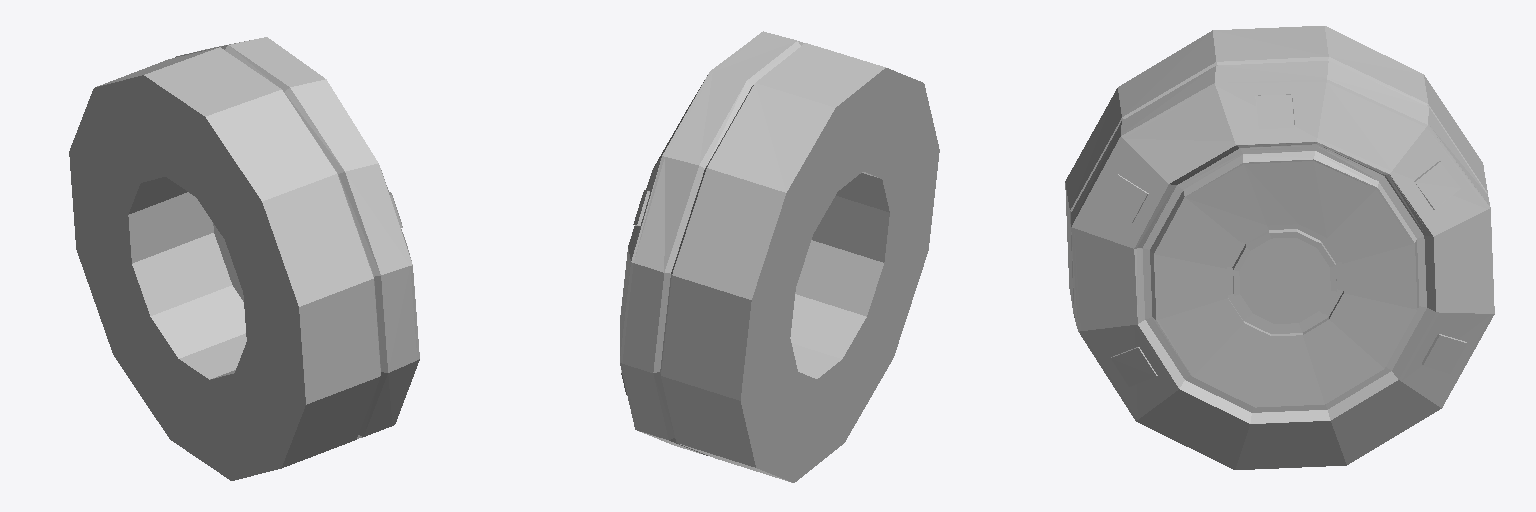
Rendered from lwheel.obj.
3 renders of one model, left to right at view 1: azimuth 30°, elevation 25°; view 2: azimuth 150°, elevation 25°; view 3: azimuth 270°, elevation 25°, orthographic.
Parts seen in each view (by area): view 1: IronMan:null_87 polySurface31; view 2: IronMan:null_87 polySurface31; view 3: IronMan:null_87 polySurface31, IronMan:null_87 polySurface30, IronMan:null_87 polySurface29, IronMan:null_87 polySurface28, IronMan:null_87 polySurface27, polySurface25 IronMan:null_87.
Boxes of the visible parts, <box> form: IronMan:null_87 polySurface31: <box>69,37,419,480</box>; IronMan:null_87 polySurface31: <box>620,31,939,482</box>; IronMan:null_87 polySurface31: <box>1065,26,1494,469</box>; IronMan:null_87 polySurface30: <box>1255,94,1294,129</box>; IronMan:null_87 polySurface29: <box>1102,174,1148,222</box>; IronMan:null_87 polySurface28: <box>1414,161,1460,209</box>; IronMan:null_87 polySurface27: <box>1422,334,1466,373</box>; polySurface25 IronMan:null_87: <box>1110,347,1157,386</box>.
Size of the model in its own units: 8.22 by 16.84 by 16.91.